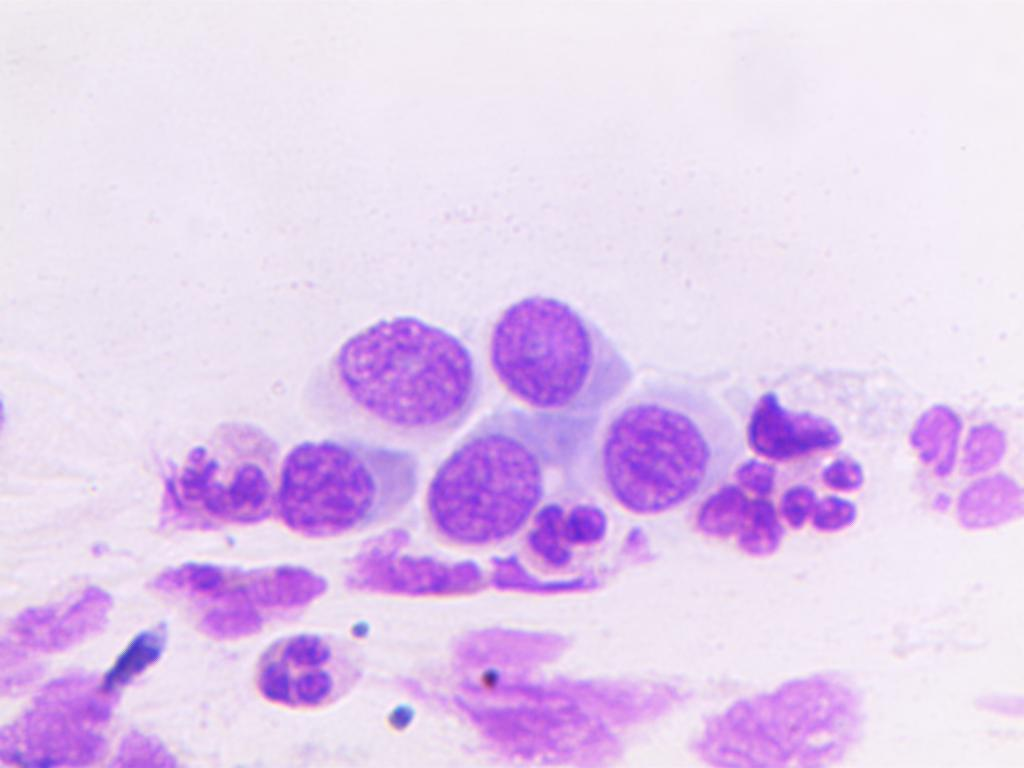artifact: (402, 628, 695, 768), (0, 567, 143, 768), (698, 656, 866, 768), (341, 529, 500, 603), (733, 373, 847, 460)
epithelial: (422, 409, 605, 560), (299, 305, 483, 422), (279, 431, 424, 530), (605, 384, 710, 511)
goblet_cell: (485, 284, 649, 411)
neutrophil: (159, 554, 326, 648), (151, 416, 288, 530), (909, 398, 1024, 533), (780, 441, 889, 541), (240, 624, 368, 709), (692, 454, 786, 562), (521, 502, 620, 582)
